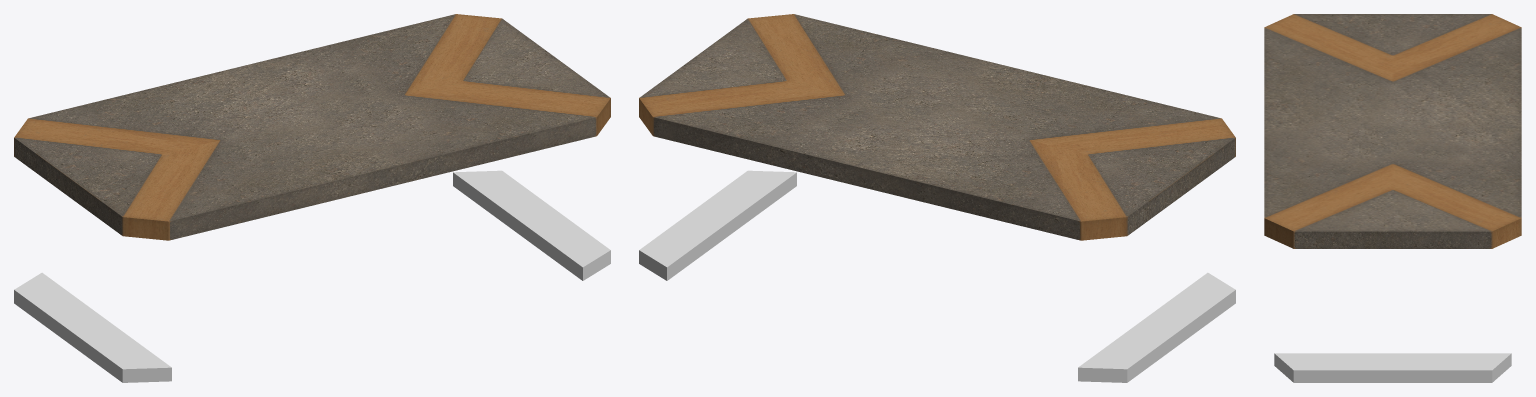
File: modern_coffee_table_01_phys.fbx
3 views of the same model, side by side, from view 1: azimuth 30°, elevation 25°; view 2: azimuth 150°, elevation 25°; view 3: azimuth 270°, elevation 25° (orthographic). The views are drawn at different scales.
Parts seen in each view (by area): view 1: table_top, physbox_2.001, physbox_2; view 2: table_top, physbox_2.001, physbox_2; view 3: table_top, physbox_2.
Boxes of the visible parts, x1,y1,x2,y2 form: table_top: (14, 14, 610, 240); physbox_2.001: (14, 272, 171, 382); physbox_2: (453, 170, 610, 280); table_top: (639, 14, 1235, 240); physbox_2.001: (1078, 272, 1235, 382); physbox_2: (639, 170, 796, 280); table_top: (1264, 14, 1521, 248); physbox_2: (1274, 353, 1511, 382).
Bounding box in the file's own units: 47.26 × 23.62 × 15.35.
